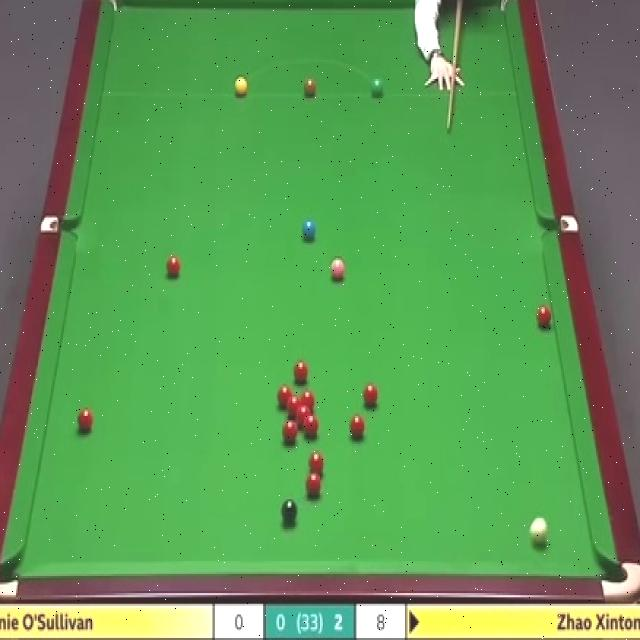black-ball: (281, 498, 298, 528)
blue-ball: (302, 218, 316, 242)
brown-ball: (304, 75, 316, 98)
green-ball: (370, 79, 384, 100)
pink-ball: (330, 258, 346, 280)
red-ball: (348, 413, 367, 442), (361, 382, 380, 411), (536, 302, 553, 330), (78, 405, 94, 434), (308, 450, 324, 478), (305, 472, 322, 498), (282, 419, 297, 446), (293, 361, 308, 386), (304, 414, 319, 439), (277, 384, 291, 409), (166, 255, 181, 278), (301, 390, 315, 412), (287, 395, 301, 416), (297, 406, 310, 426)
white-ball: (529, 516, 550, 549)
yellow-ball: (234, 77, 248, 99)
